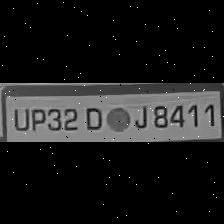1: (198, 100, 216, 127), (185, 100, 201, 127)
2: (61, 103, 79, 131)
3: (46, 104, 62, 132)
4: (168, 100, 186, 128)
8: (149, 100, 169, 128)
D: (80, 102, 104, 130)
J: (131, 100, 149, 130)
P: (27, 104, 46, 132)
U: (9, 104, 29, 130)
